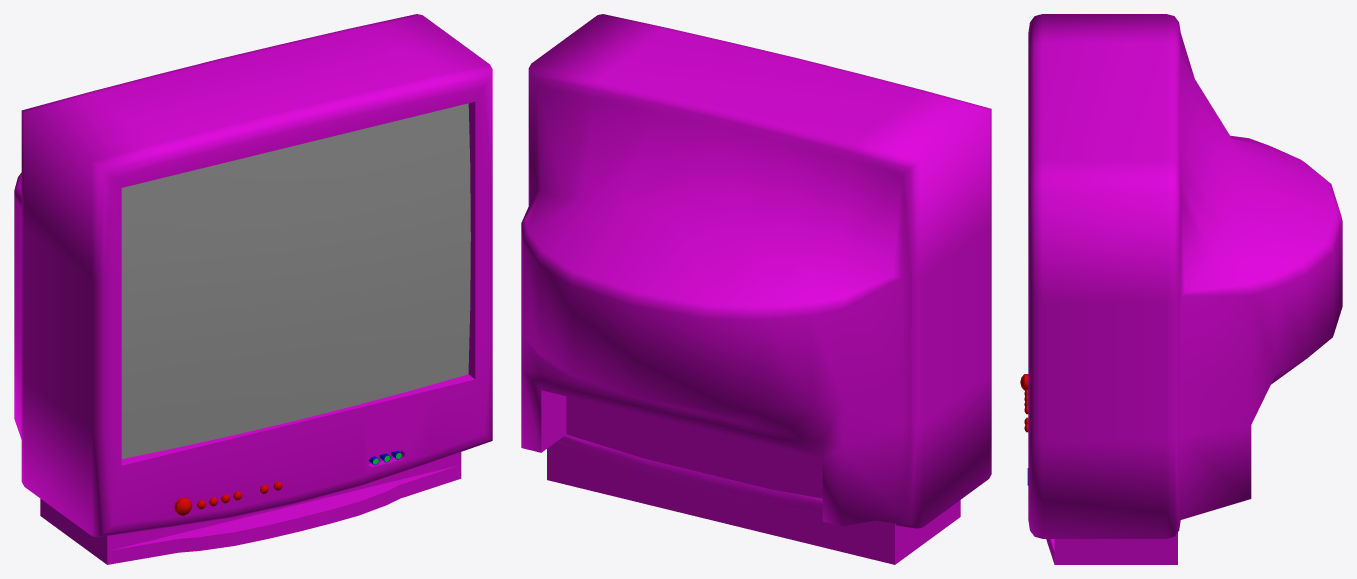
File: CRT_TV.FBX
The picture shows the model from 3 angles, left to right: view 1: azimuth 30°, elevation 25°; view 2: azimuth 150°, elevation 25°; view 3: azimuth 270°, elevation 25°; orthographic projection. The views are drawn at different scales.
Visible parts, largest first — view 1: Box001, Plane001; view 2: Box001; view 3: Box001.
Part boxes in pixels (box(x1,y1,x2,y2)): Box001: box(14, 14, 492, 564); Plane001: box(121, 103, 470, 458); Box001: box(521, 14, 991, 564); Box001: box(1020, 14, 1342, 564).
Size of the model in its own units: 0.4501 by 0.342 by 0.4502.
